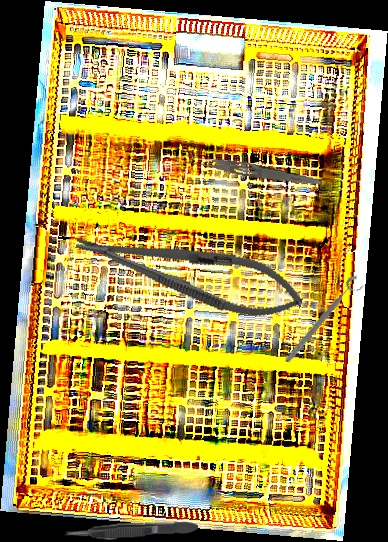Dressing Forceps: (181, 151, 324, 188)
Fixation Ring: (281, 272, 368, 370)
Needle Holder: (69, 212, 310, 331)
Tissue Forceps: (63, 519, 199, 542)
